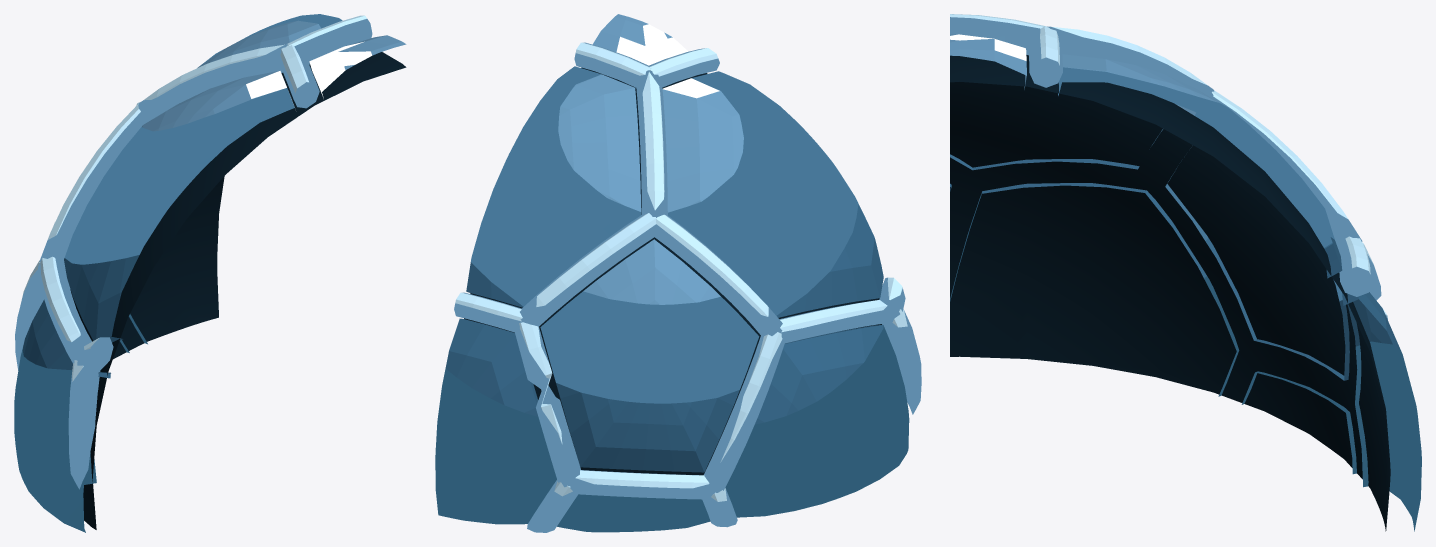
File: fruit_geoball_tl.glb
3 views of the same model, side by side, from view 1: azimuth 30°, elevation 25°; view 2: azimuth 150°, elevation 25°; view 3: azimuth 270°, elevation 25° (orthographic). The views are drawn at different scales.
Visible parts, largest first — view 1: fruit_geoball_tl; view 2: fruit_geoball_tl; view 3: fruit_geoball_tl.
Part boxes in pixels (<box>): fruit_geoball_tl: <box>14,14,406,532</box>; fruit_geoball_tl: <box>435,14,921,532</box>; fruit_geoball_tl: <box>950,14,1421,531</box>.
Size of the model in its own units: 23.68 by 27.57 by 24.7.
